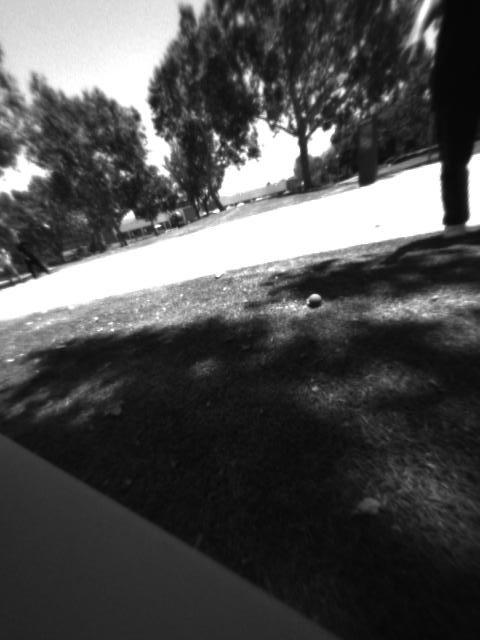dogtoy: (300, 287, 332, 316)
